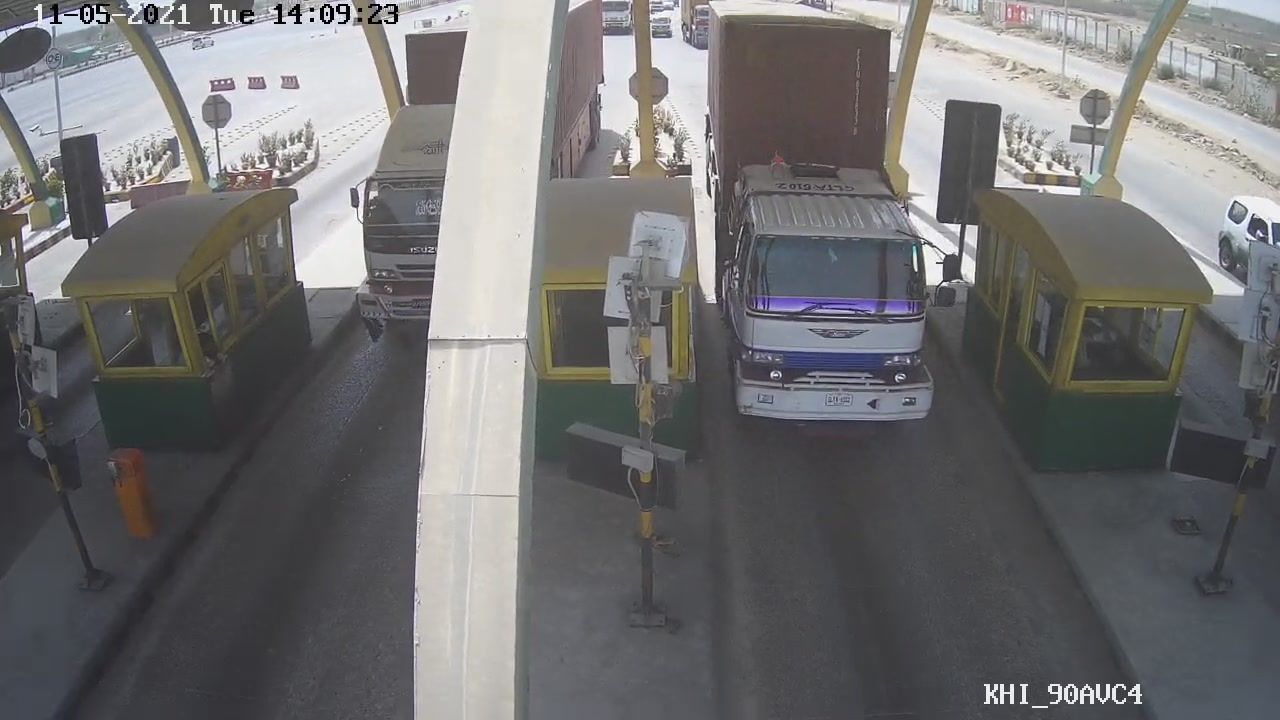F6: (697, 21, 943, 427)
